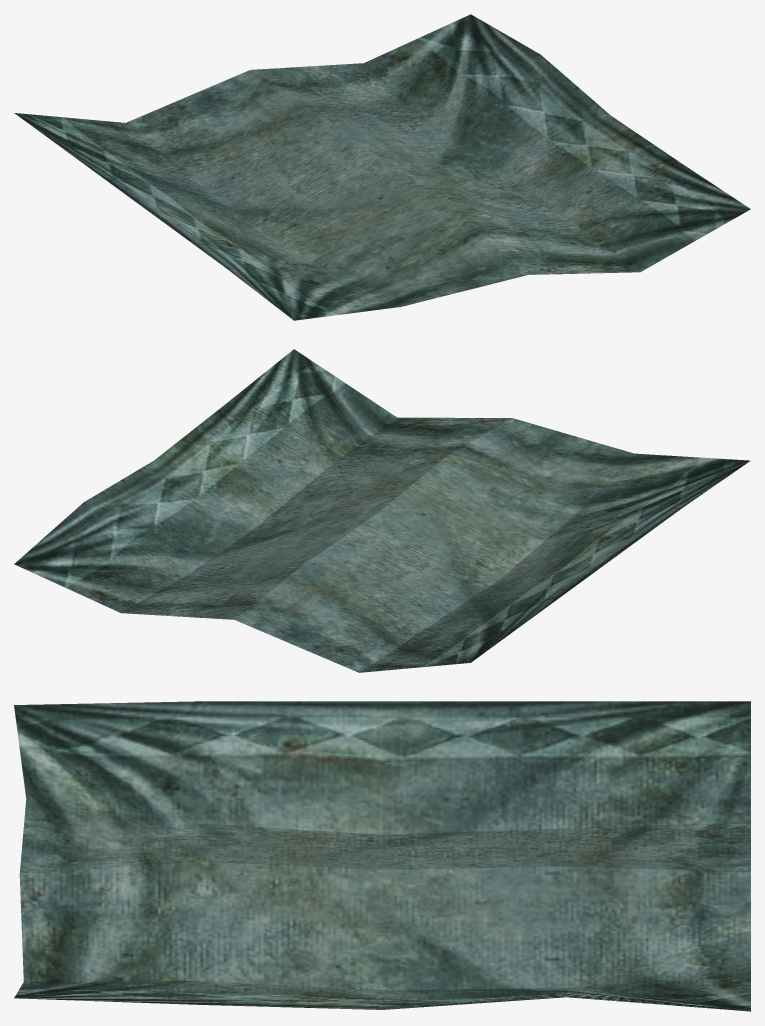
File: Cloth02_Parts_Build_002.FBX
3 renders of one model, top to bottom at view 1: azimuth 30°, elevation 25°; view 2: azimuth 150°, elevation 25°; view 3: azimuth 270°, elevation 25°, orthographic. The views are drawn at different scales.
Visible parts, largest first — view 1: Cloth02_Parts_Build_002; view 2: Cloth02_Parts_Build_002; view 3: Cloth02_Parts_Build_002.
Boxes of the visible parts, left/top/right/bottom form: Cloth02_Parts_Build_002: left=14, top=14, right=750, bottom=320; Cloth02_Parts_Build_002: left=14, top=349, right=750, bottom=672; Cloth02_Parts_Build_002: left=14, top=701, right=750, bottom=1011.
Bounding box in the file's own units: 456 × 46.4 × 484.
1 material, 1 textured.
